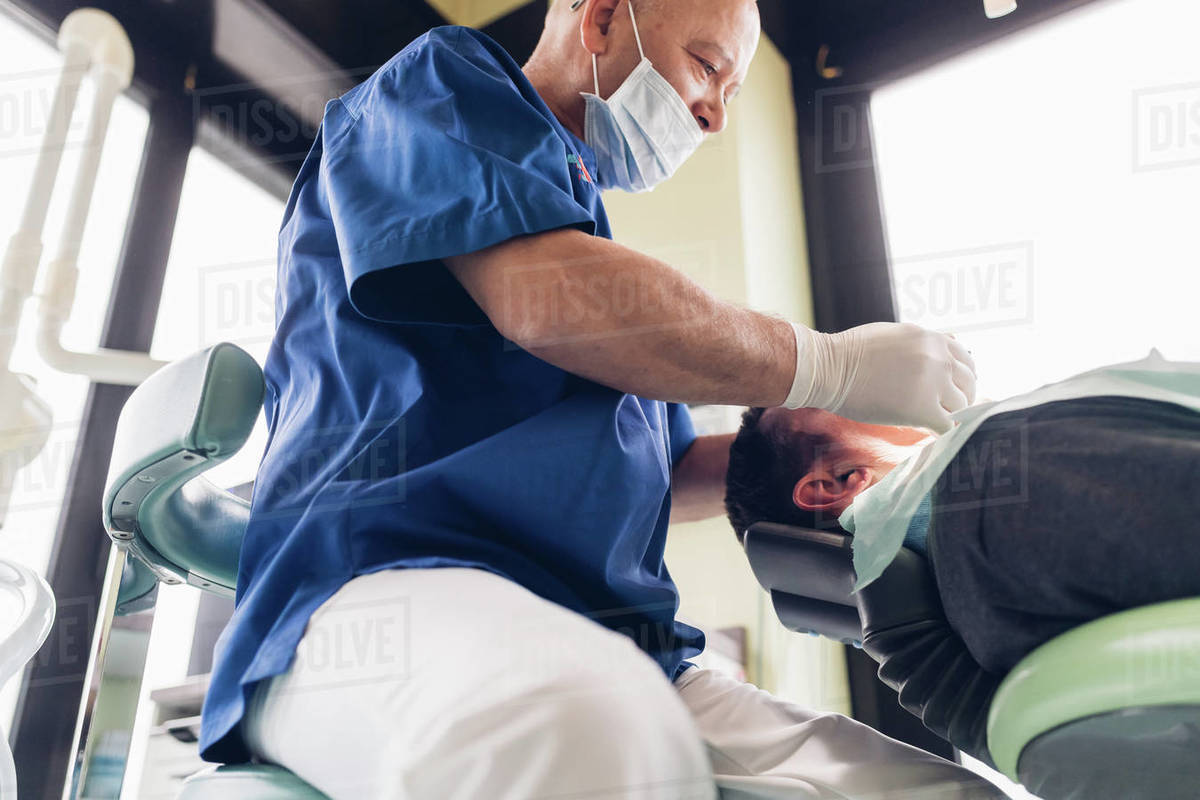mask_weared_incorrect: (541, 1, 758, 197)
